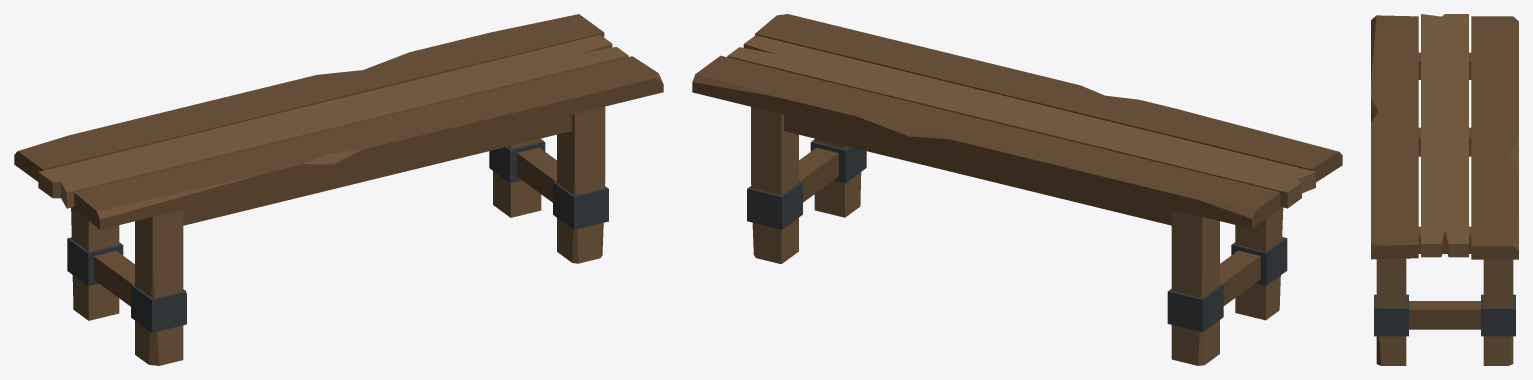
File: Furniture_04.fbx
The picture shows the model from 3 angles, left to right: view 1: azimuth 30°, elevation 25°; view 2: azimuth 150°, elevation 25°; view 3: azimuth 270°, elevation 25°; orthographic projection. The views are drawn at different scales.
Parts seen in each view (by area): view 1: Furniture_04; view 2: Furniture_04; view 3: Furniture_04.
Part boxes in pixels (x1,y1,x2,y2): Furniture_04: [14, 14, 663, 365]; Furniture_04: [692, 14, 1342, 365]; Furniture_04: [1371, 14, 1518, 365].
Bounding box in the file's own units: 151 × 43.18 × 40.6.
